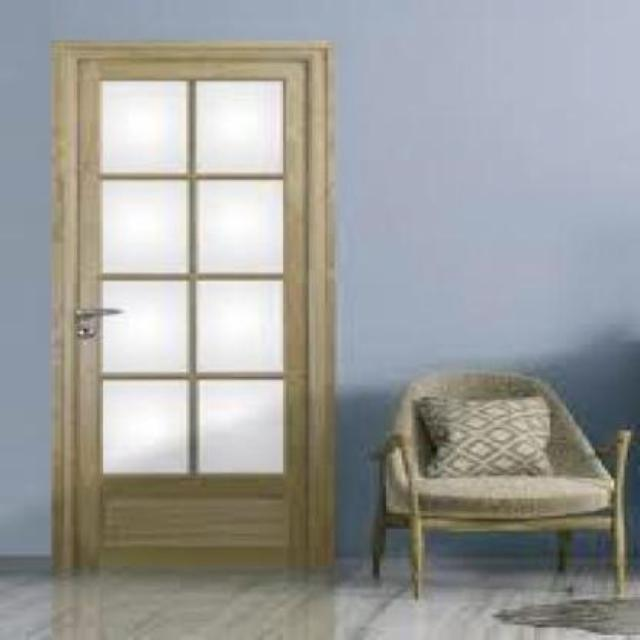door: (54, 40, 330, 573)
